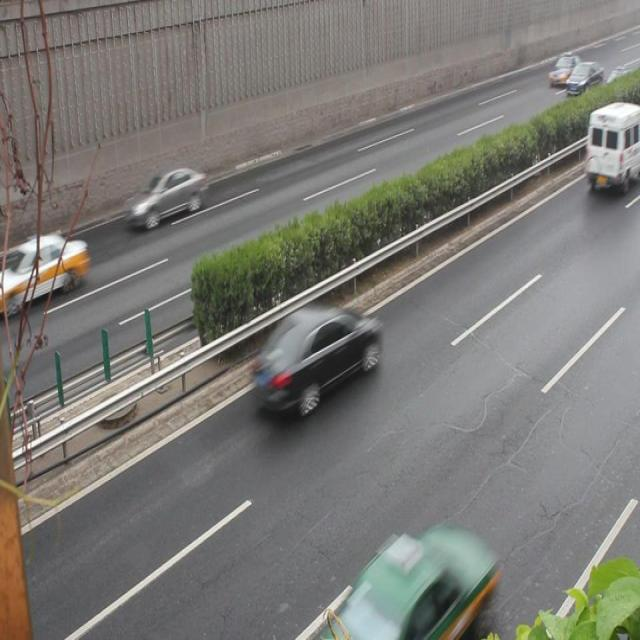car: (333, 522, 496, 640), (256, 307, 379, 415), (12, 232, 90, 306), (128, 166, 207, 227), (586, 105, 640, 189)
